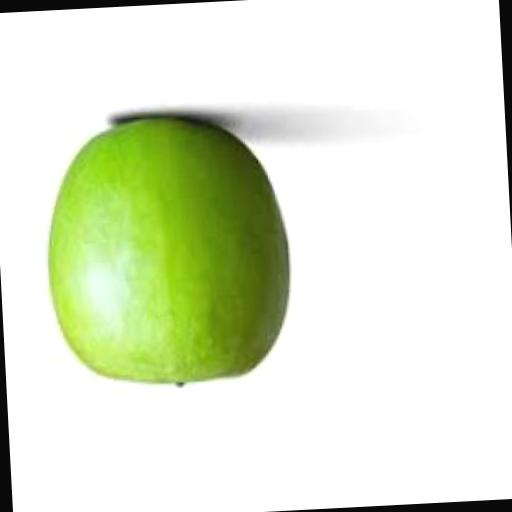biodegradable: (44, 114, 298, 396)
